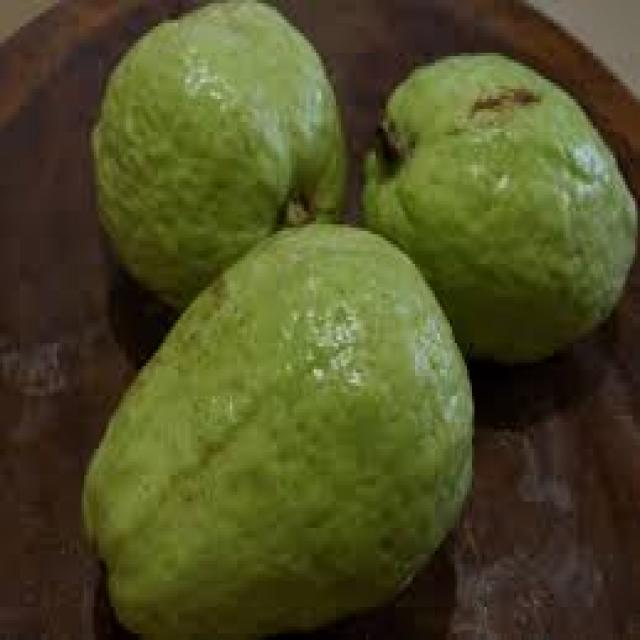Guava: (90, 235, 476, 637), (352, 49, 633, 341), (100, 13, 342, 264)
